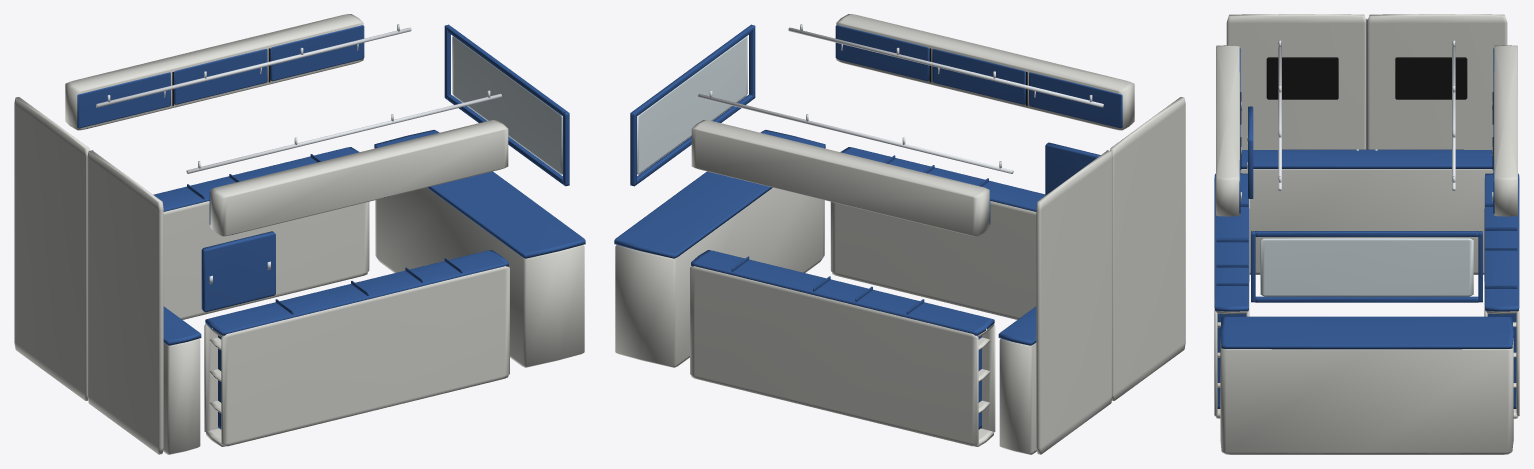
Rendered from ambulance.glb.
3 renders of one model, left to right at view 1: azimuth 30°, elevation 25°; view 2: azimuth 150°, elevation 25°; view 3: azimuth 270°, elevation 25°, orthographic. The views are drawn at different scales.
Visible parts, largest first — view 1: LowPlastic, RearDoors, UpperPlastic, EndBulkheadCabinet, UpperBluePlastic, LowBluePlastic, EndBulkheadWorktop, CabPartitionWindow, FoldedSideSeat, LoadingLocker, GrabRails, CabPartitionFrame (+1 smaller); view 2: LowPlastic, RearDoors, UpperPlastic, EndBulkheadCabinet, UpperBluePlastic, LowBluePlastic, EndBulkheadWorktop, CabPartitionWindow, LoadingLocker, GrabRails, CabPartitionFrame, FoldedSideSeat (+1 smaller); view 3: EndBulkheadCabinet, RearDoors, LoadingLocker, CabPartitionWindow, EndBulkheadWorktop, LowBluePlastic, UpperPlastic, RearDoorWindows, LoadingWorktop, CabPartitionFrame, LowPlastic, GrabRails (+2 smaller).
Boxes of the visible parts, box(x1,y1,x2,y2) form: LowPlastic: box(163, 201, 509, 446); RearDoors: box(14, 97, 163, 454); UpperPlastic: box(65, 14, 508, 236); EndBulkheadCabinet: box(375, 187, 584, 367); UpperBluePlastic: box(77, 25, 364, 224); LowBluePlastic: box(153, 147, 508, 429); EndBulkheadWorktop: box(374, 130, 585, 258); CabPartitionWindow: box(452, 36, 562, 174); FoldedSideSeat: box(201, 231, 275, 312); LoadingLocker: box(163, 338, 200, 454); GrabRails: box(96, 24, 501, 173); CabPartitionFrame: box(444, 24, 569, 186); LowPlastic: box(690, 201, 1036, 446); RearDoors: box(1036, 97, 1185, 454); UpperPlastic: box(691, 14, 1134, 236); EndBulkheadCabinet: box(615, 187, 824, 367); UpperBluePlastic: box(835, 25, 1122, 224); LowBluePlastic: box(691, 147, 1045, 429); EndBulkheadWorktop: box(614, 130, 825, 258); CabPartitionWindow: box(637, 36, 747, 174); LoadingLocker: box(999, 338, 1036, 454); GrabRails: box(698, 24, 1103, 173); CabPartitionFrame: box(630, 24, 755, 186); FoldedSideSeat: box(1045, 142, 1100, 195); EndBulkheadCabinet: box(1220, 338, 1513, 454); RearDoors: box(1226, 14, 1507, 149); LoadingLocker: box(1240, 169, 1493, 274); CabPartitionWindow: box(1260, 238, 1473, 296); EndBulkheadWorktop: box(1220, 316, 1513, 349); LowBluePlastic: box(1214, 173, 1519, 408); UpperPlastic: box(1216, 45, 1517, 216); RearDoorWindows: box(1266, 57, 1467, 99); LoadingWorktop: box(1241, 149, 1492, 168); CabPartitionFrame: box(1251, 231, 1482, 302); LowPlastic: box(1214, 178, 1519, 418); GrabRails: box(1278, 40, 1455, 190).
Bounding box in the file's own units: 3.52 × 2.05 × 2.28.
